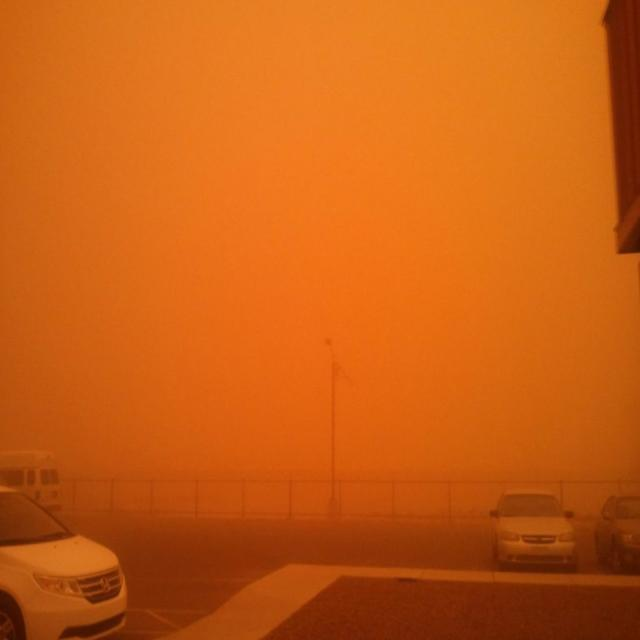car: (2, 480, 128, 639), (489, 490, 578, 571), (592, 492, 640, 572), (1, 450, 65, 510)
